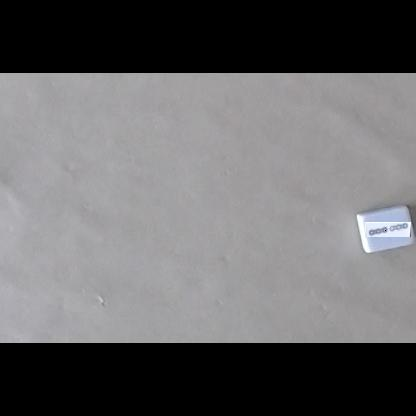2s: (365, 222, 411, 237)
